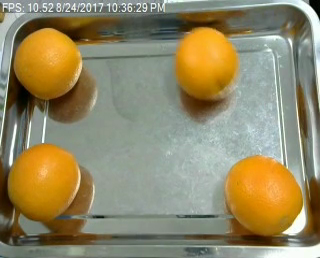Orange: (225, 155, 303, 235), (7, 143, 82, 219), (13, 27, 83, 99), (174, 26, 237, 98)
